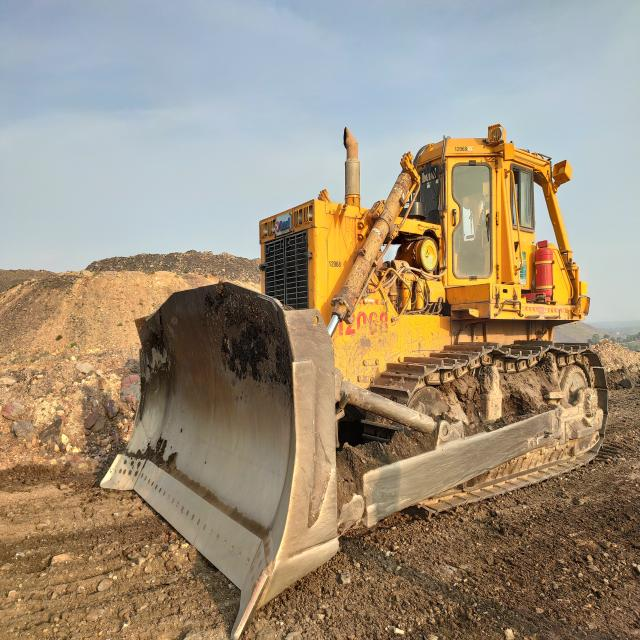buldozerpayloadergrader: (101, 127, 609, 638)
